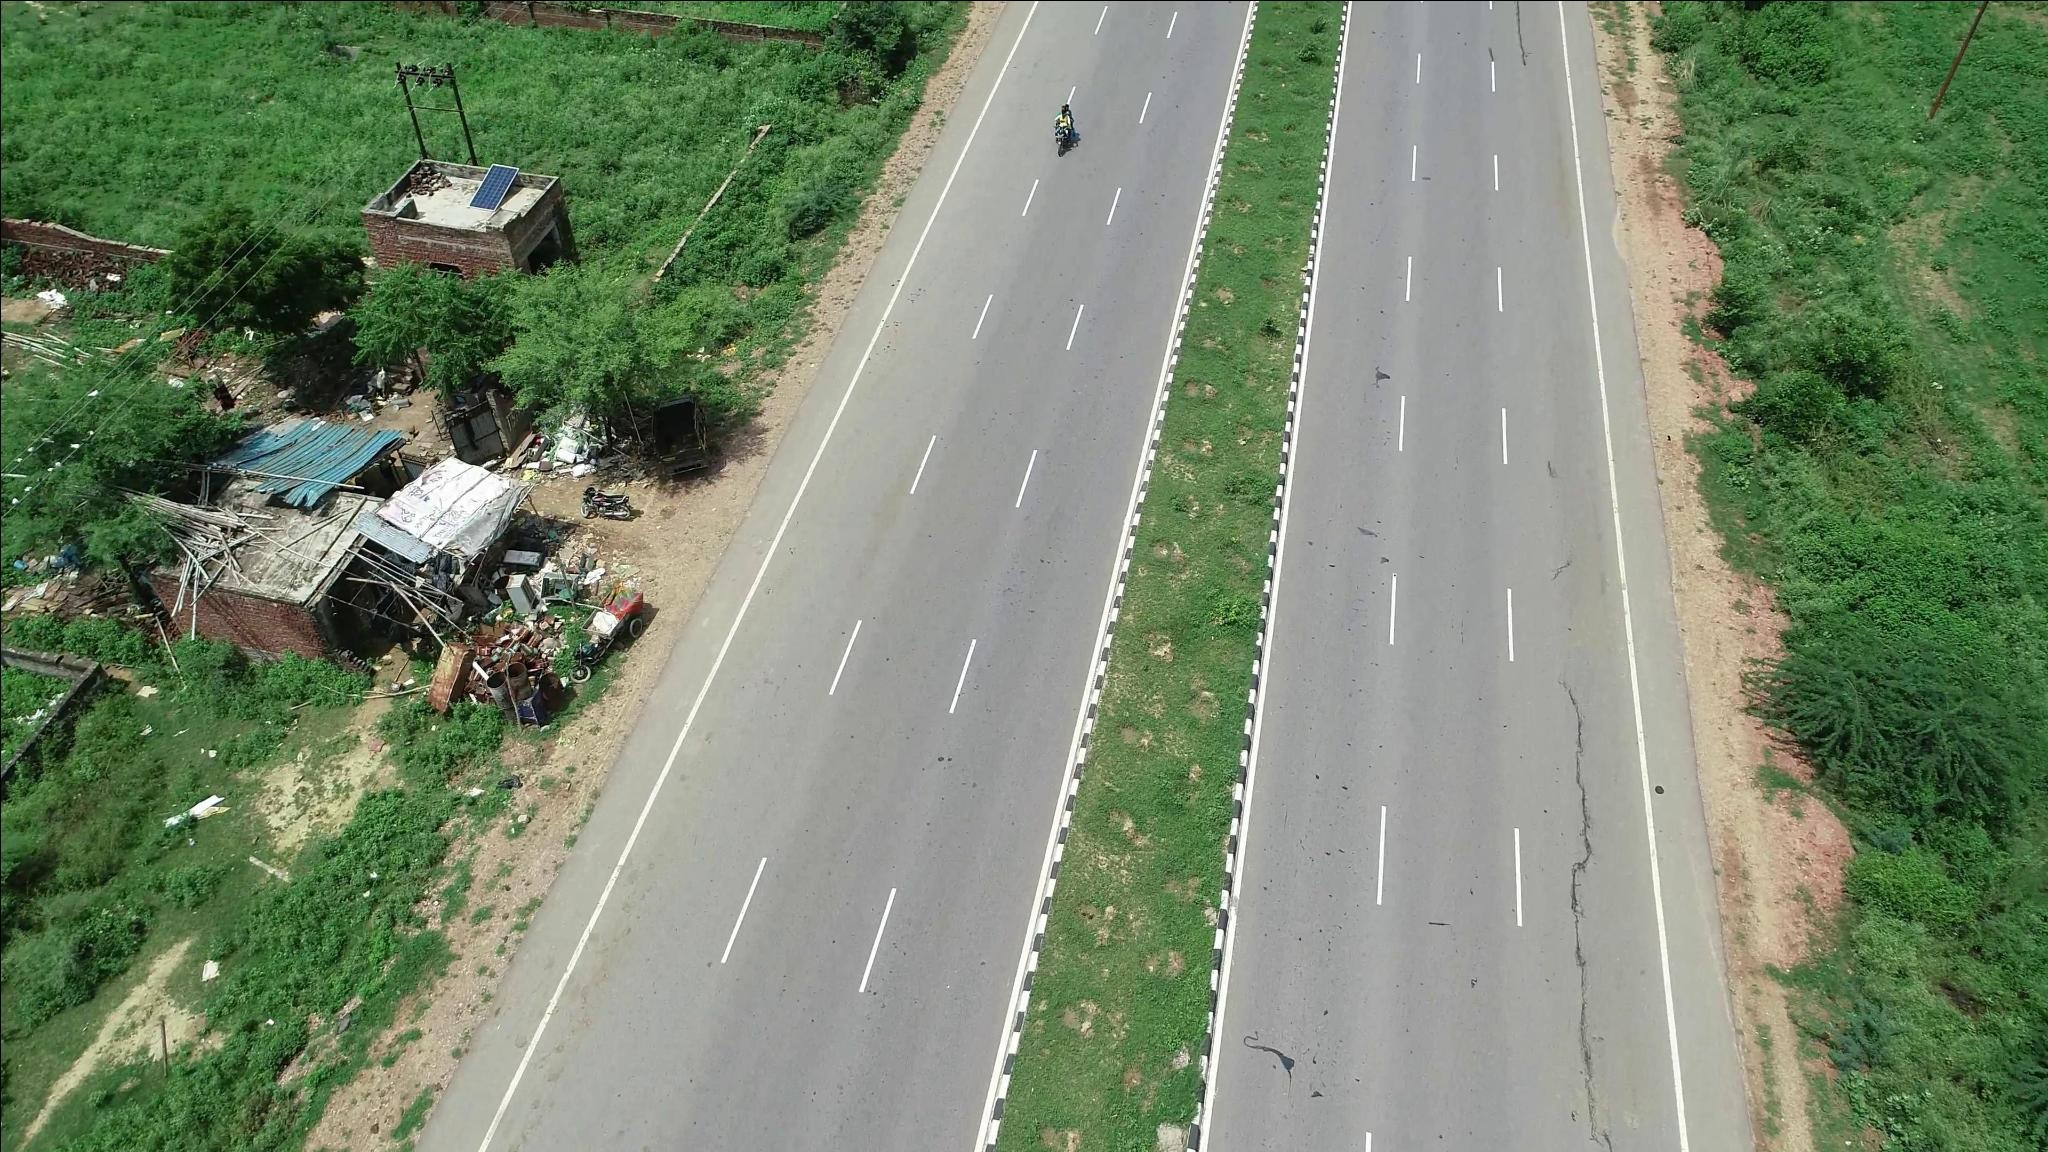Cracks: (1551, 682, 1616, 1137)
